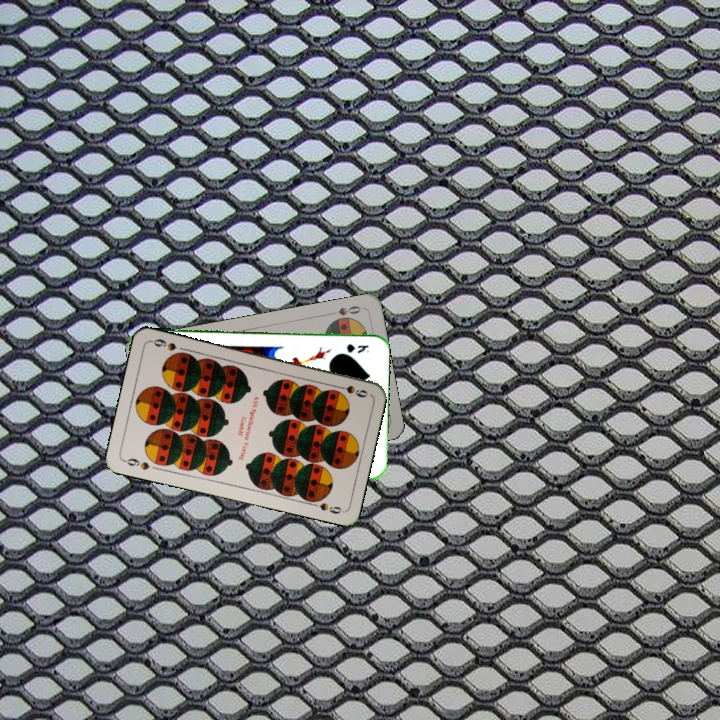GK: (342, 340, 372, 355)
S9: (331, 381, 370, 400), (120, 454, 152, 473)
SO: (325, 302, 366, 318)
